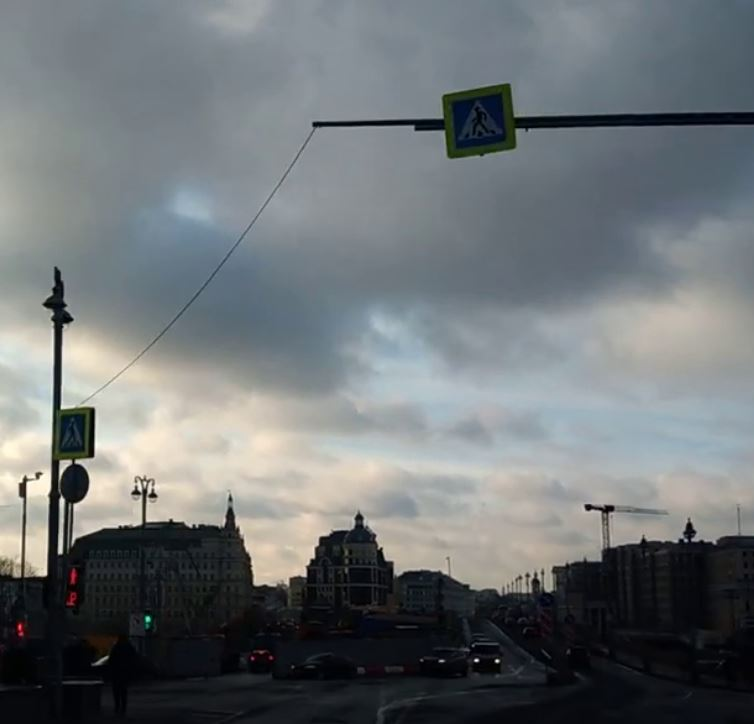Yaya Gecidi: (448, 99, 507, 147), (61, 417, 86, 454)
